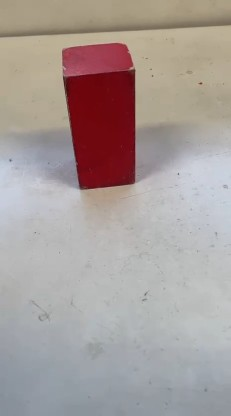red: (54, 42, 138, 176)
